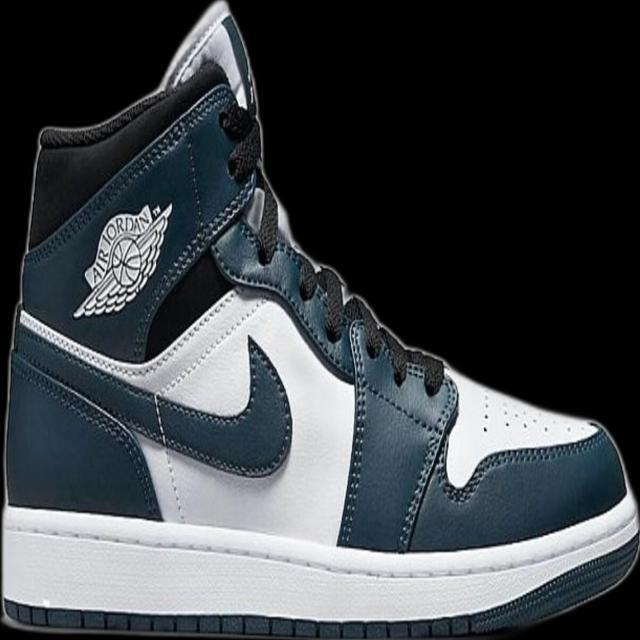J1_InsoleChar: (0, 0, 639, 639)
J1_ShoeLogo: (71, 200, 173, 319)
J1_StitchPattern: (0, 531, 639, 639), (13, 296, 294, 481), (24, 81, 239, 266), (334, 295, 455, 551), (15, 287, 268, 400), (11, 353, 163, 517), (296, 253, 447, 397), (135, 171, 258, 328), (3, 600, 481, 639), (151, 289, 267, 399), (443, 427, 606, 504), (394, 377, 459, 553), (343, 293, 447, 396), (334, 315, 371, 549), (471, 429, 605, 470), (148, 388, 188, 521), (216, 101, 264, 183), (312, 262, 347, 338)
